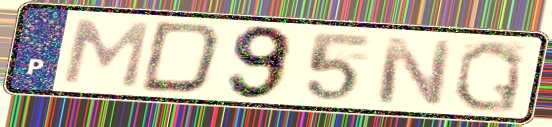5: (304, 30, 376, 103)
9: (224, 23, 298, 101)
D: (135, 19, 226, 97)
M: (58, 16, 154, 91)
N: (373, 34, 455, 109)
Q: (449, 37, 527, 115)
